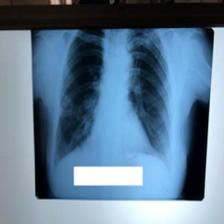tuberculosis: (43, 28, 178, 187)
